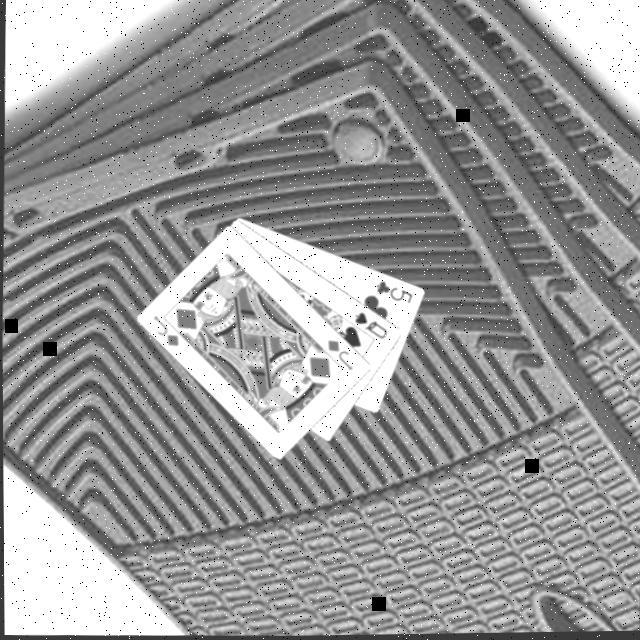5C: (374, 280, 416, 310)
JD: (150, 313, 183, 352), (325, 338, 358, 376)
QS: (352, 310, 392, 345)
